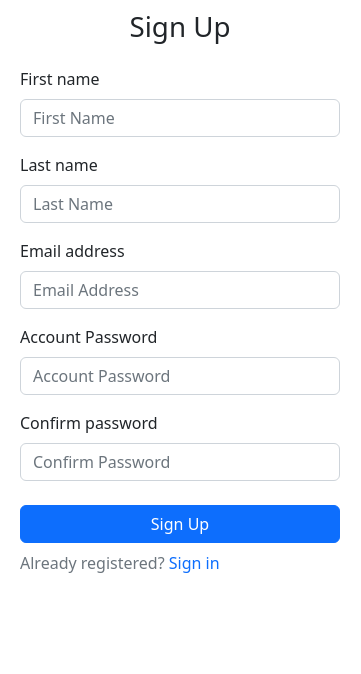
Scenario: Testing SignUp component › Testing when the password confirmation do not match the password it should shows 'Password confirmation should match the password'
Type "Q1!wasdf" into the password field with placeholder "Account Password" at coordinates (180, 376), box [20,357,340,395]
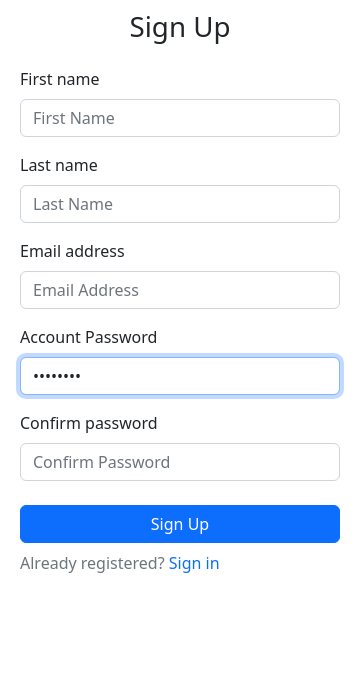
Type "blabla" into the password field with placeholder "Confirm password" at coordinates (180, 462), box [20,443,340,481]
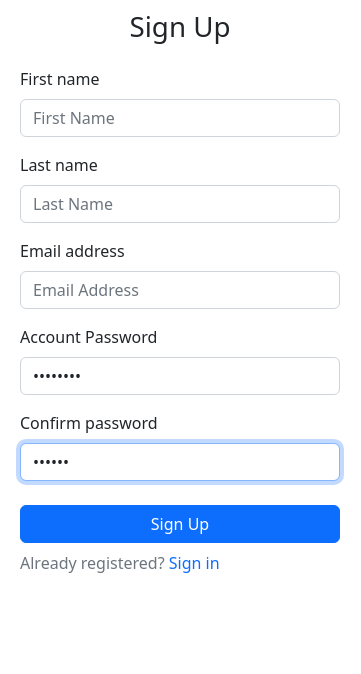
Click the button "Sign Up" at coordinates (180, 524), box [20,505,340,543]
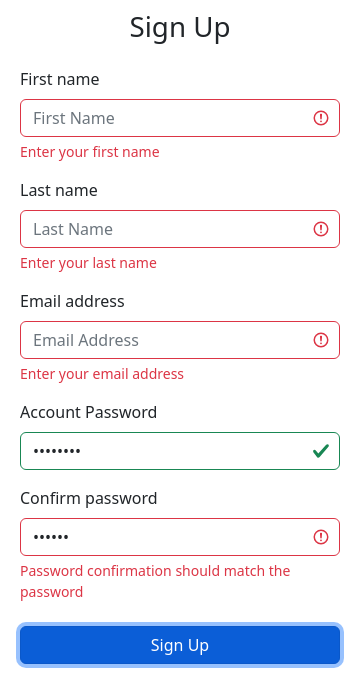
Now the text "Password confirmation should match the password" is shown, box [20,561,290,601]
